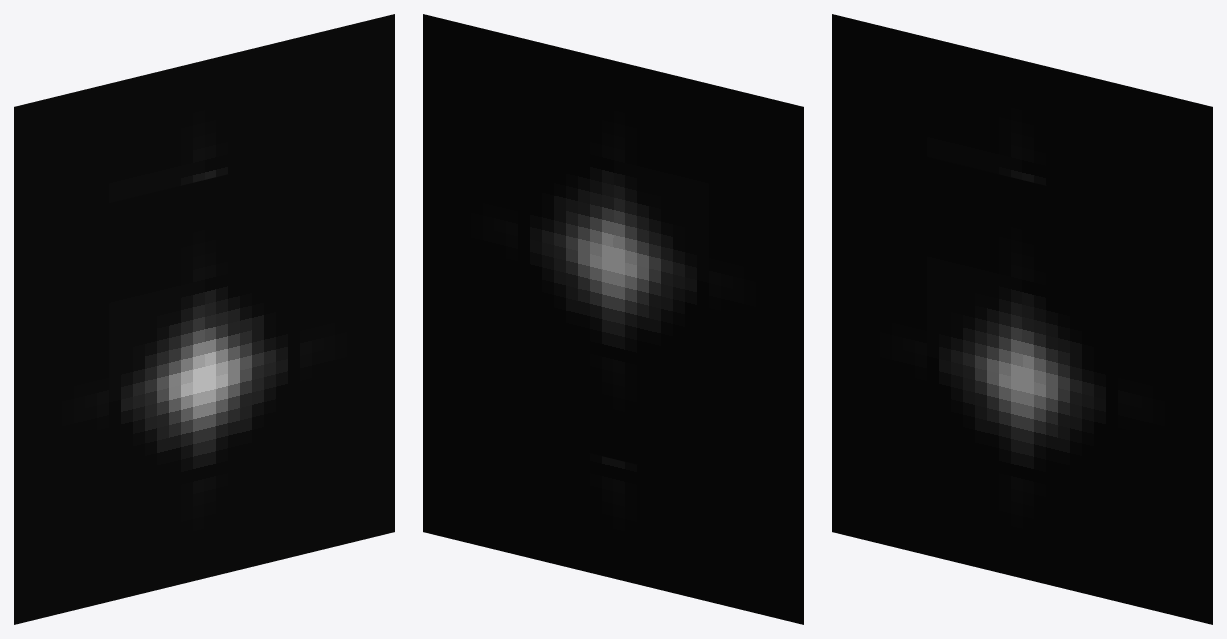
Rendered from proj_Pink_01.fbx.
The picture shows the model from 3 angles, left to right: view 1: azimuth 30°, elevation 25°; view 2: azimuth 150°, elevation 25°; view 3: azimuth 330°, elevation 25°; orthographic projection.
Parts seen in each view (by area): view 1: flare 31 (×2); view 2: flare 31 (×2); view 3: flare 31 (×2).
Part boxes in pixels (box(x1,y1,x2,y2)): flare 31 (×2): box(14, 14, 394, 624); flare 31 (×2): box(423, 14, 803, 624); flare 31 (×2): box(832, 14, 1212, 624).
Size of the model in its own units: 1 by 1.3 by 9.54e-07.
Materials: 1 (1 with a texture image).
